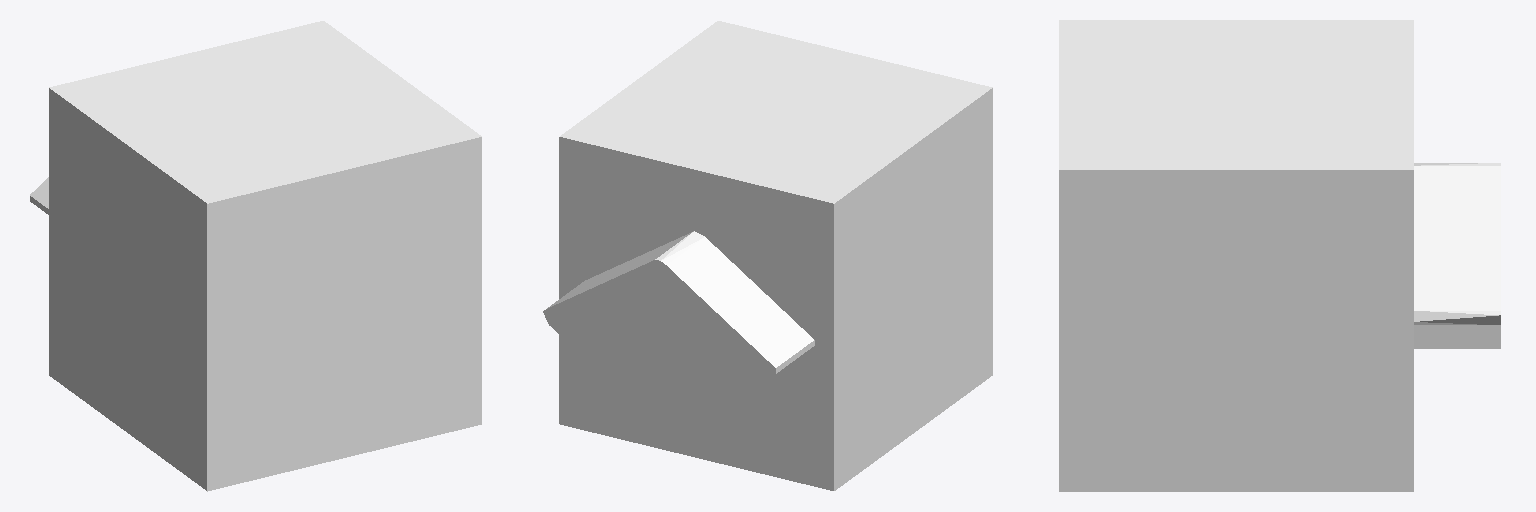
URDF robot description (Diamond_cube_cap_preprocessed_convex):
<?xml version="1.0" ?>
<robot name="Diamond_cube_cap_preprocessed_convex">
  <link name="baseLink">
    <contact>
    	<friction_anchor/>
    	   <lateral_friction value="1.0"/>
    </contact>
    <inertial>
      <origin rpy="0 0 0" xyz="0 0 0"/>
       <!-- mass controls penetration -->
       <mass value=".5"/>
       <inertia ixx="1e-4" ixy="0" ixz="0" iyy="1e-4" iyz="0" izz="1e-4"/>
    </inertial>
    <visual>
      <origin rpy="0 0 0" xyz="0 0 0"/>
      <geometry>
        <mesh filename="Diamond_cube_cap_preprocessed_convex.obj"/>
      </geometry>
       <material name="white">
        <color rgba="1 1 1 1"/>
      </material>
    </visual>
    <collision>
      <origin rpy="0 0 0" xyz="0 0 0"/>
      <geometry>
        <mesh filename="Diamond_cube_cap_preprocessed_convex.obj"/>
      </geometry>
    </collision>
  </link>
</robot>

--- Render facts (derived) ---
Views: 3 orthographic renders of the robot side by side, from view 1: azimuth 30°, elevation 25°; view 2: azimuth 150°, elevation 25°; view 3: azimuth 270°, elevation 25°.
Robot: Diamond_cube_cap_preprocessed_convex — 1 links, 0 joints (none); root link baseLink; default pose: every joint at zero.
Links seen in each view (by area): view 1: baseLink; view 2: baseLink; view 3: baseLink.
Link boxes in pixels (bbox=[...]): baseLink: bbox=[30, 21, 481, 491]; baseLink: bbox=[543, 21, 992, 490]; baseLink: bbox=[1059, 20, 1500, 491].
Size in the robot's own frame: 0.081 by 0.1008 by 0.081 metres.
Meshes: 1 distinct files referenced, 1 mesh visuals loaded (1 OBJ).